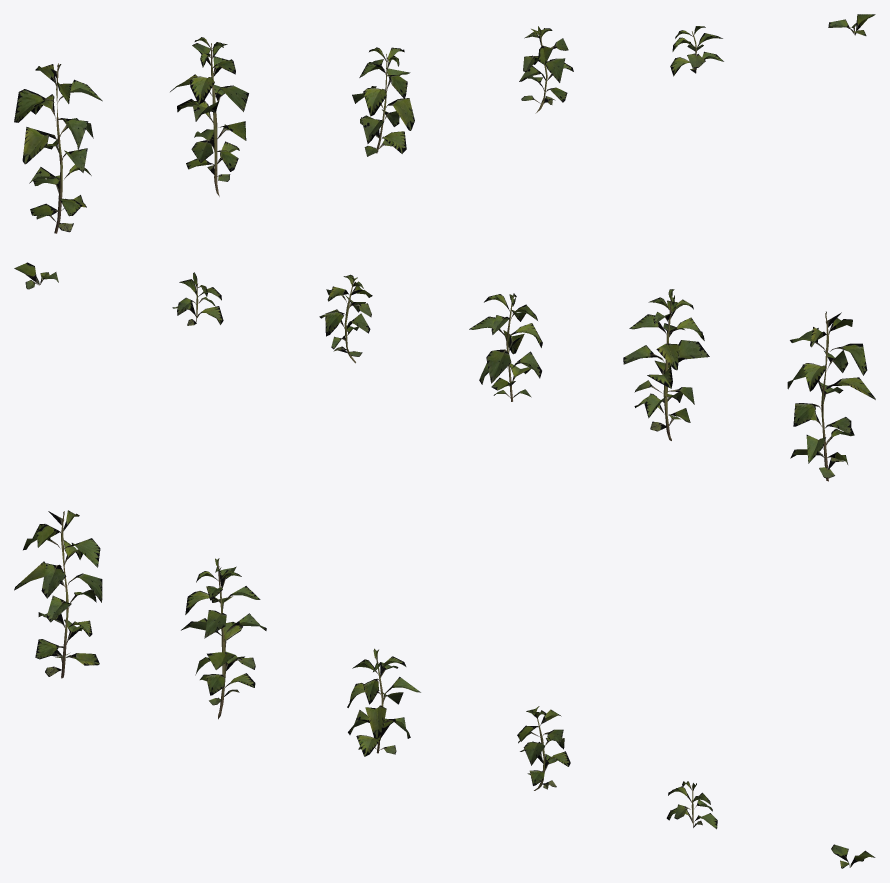
Rendered from m_nettle_plant.b88b74b2ed.glb.
3 renders of one model, top to bottom at view 1: azimuth 30°, elevation 25°; view 2: azimuth 150°, elevation 25°; view 3: azimuth 330°, elevation 25°, orthographic.
Visible parts, largest first — view 1: nettle_plant_medium_a_LOD0; view 2: nettle_plant_medium_a_LOD0; view 3: nettle_plant_medium_a_LOD0.
Part boxes in pixels (bbox=[...]): nettle_plant_medium_a_LOD0: bbox=[14, 14, 875, 233]; nettle_plant_medium_a_LOD0: bbox=[14, 262, 875, 481]; nettle_plant_medium_a_LOD0: bbox=[14, 510, 875, 868].
Bounding box in the file's own units: 1.08 × 0.2054 × 0.0947.
Materials: 1 (1 with a texture image).
